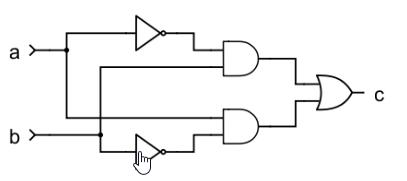and: (216, 103, 262, 154), (219, 35, 262, 80)
not: (130, 12, 168, 53)
or: (310, 66, 355, 121)
